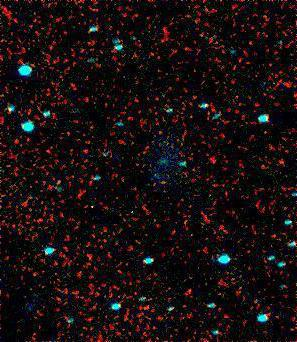star: (174, 278, 204, 308)
